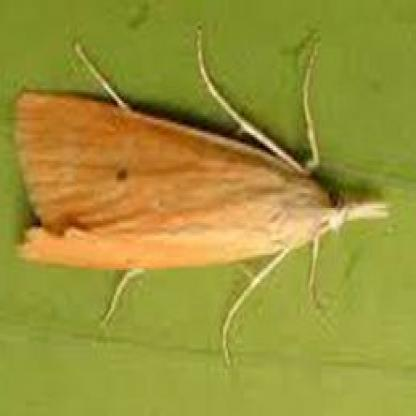stem-borer: (11, 26, 392, 372)
